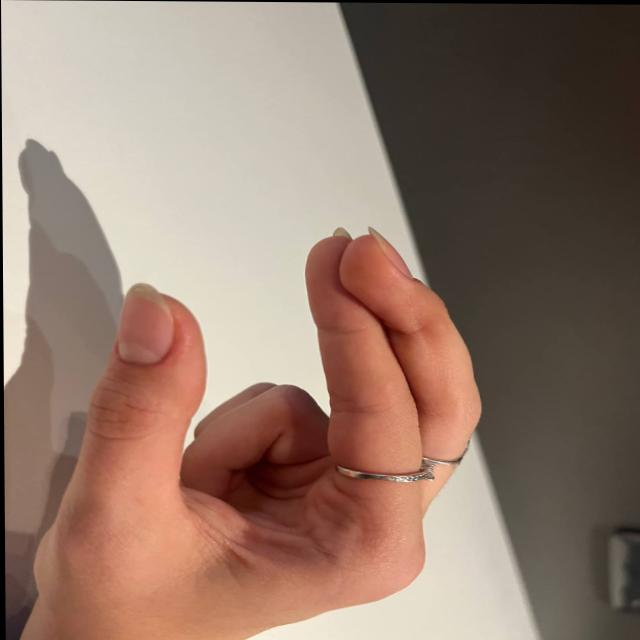ia: (48, 204, 465, 633)
